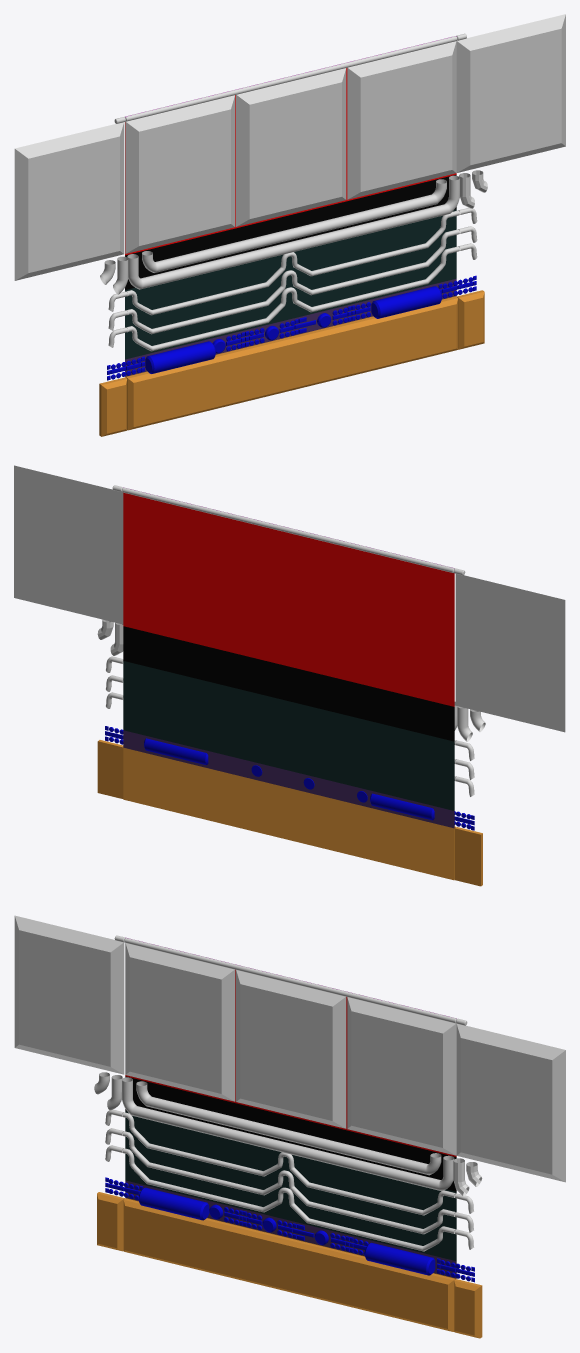
The model's file is Trim_2_High.fbx.
The picture shows the model from 3 angles, top to bottom: view 1: azimuth 30°, elevation 25°; view 2: azimuth 150°, elevation 25°; view 3: azimuth 330°, elevation 25°; orthographic projection.
Visible parts, largest first — view 1: pCube70, pCylinder75, Trim_2_Low1, polySurface379, polySurface380, pCylinder48; view 2: Trim_2_Low1, pCube70, pCylinder75, pCylinder48, polySurface379, polySurface380; view 3: pCube70, pCylinder75, Trim_2_Low1, polySurface379, polySurface380, pCylinder48.
Boxes of the visible parts, bbox=[...] form: pCube70: bbox=[14, 14, 565, 280]; pCylinder75: bbox=[99, 275, 484, 436]; Trim_2_Low1: bbox=[125, 36, 456, 377]; polySurface379: bbox=[100, 170, 487, 294]; polySurface380: bbox=[108, 208, 477, 351]; pCylinder48: bbox=[125, 36, 457, 121]; Trim_2_Low1: bbox=[123, 487, 454, 880]; pCube70: bbox=[14, 465, 565, 732]; pCylinder75: bbox=[97, 726, 482, 886]; pCylinder48: bbox=[122, 487, 454, 572]; polySurface379: bbox=[97, 619, 485, 741]; polySurface380: bbox=[106, 656, 474, 796]; pCube70: bbox=[14, 915, 565, 1182]; pCylinder75: bbox=[97, 1177, 482, 1338]; Trim_2_Low1: bbox=[125, 937, 456, 1278]; polySurface379: bbox=[94, 1072, 482, 1196]; polySurface380: bbox=[105, 1109, 473, 1251]; pCylinder48: bbox=[124, 937, 456, 1023].
Bounding box in the file's own units: 587 × 317 × 17.13.
